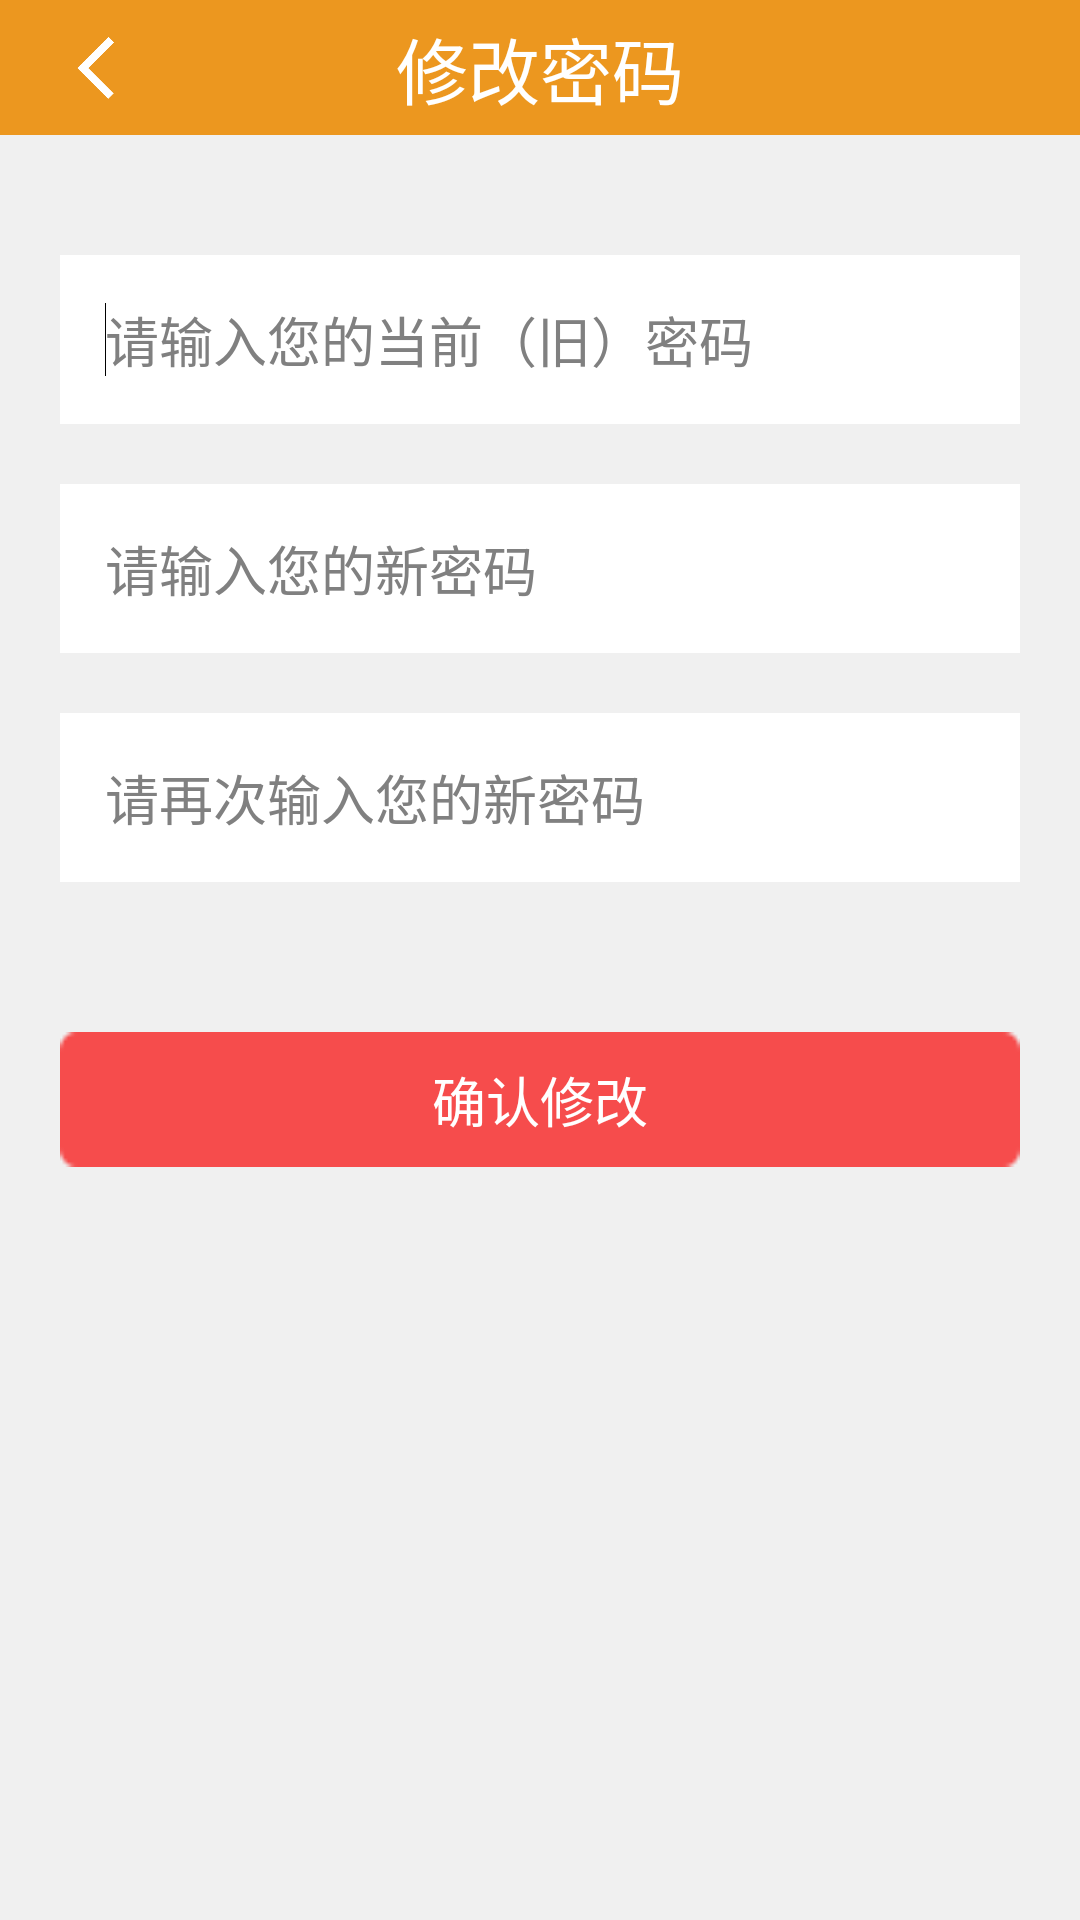

Icon click points for this 1080 × 1920 phone screenshot, format point (x, y):
back: point (96, 68)
